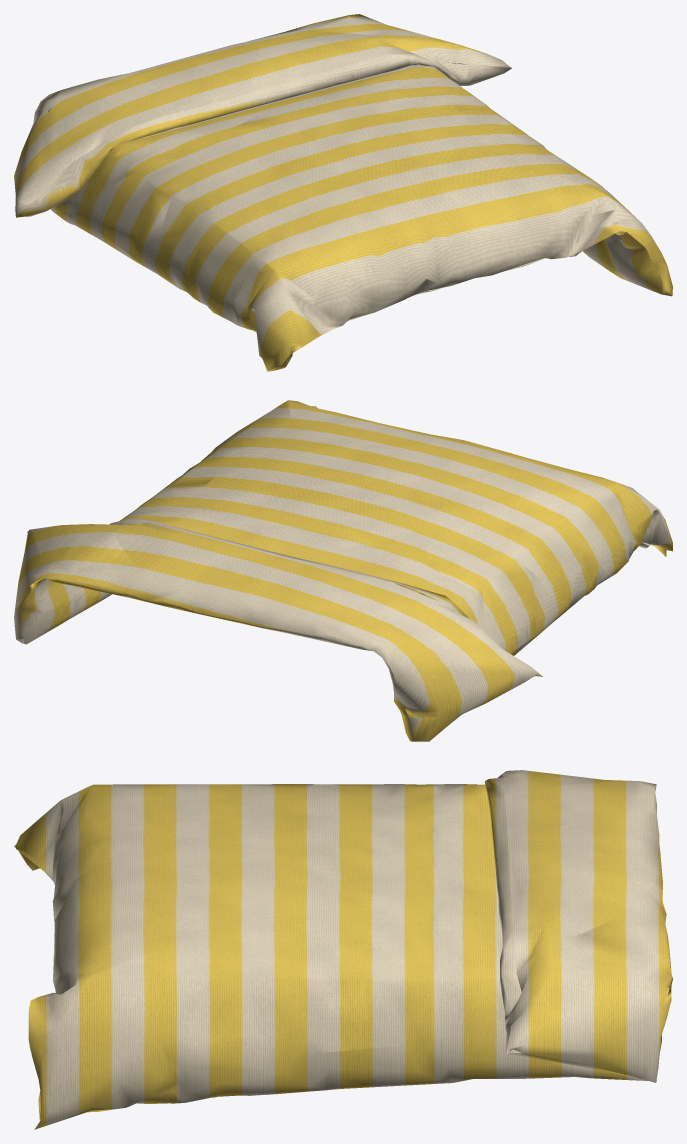
Rendered from Blanket.FBX.
3 views of the same model, one above another, from view 1: azimuth 30°, elevation 25°; view 2: azimuth 150°, elevation 25°; view 3: azimuth 270°, elevation 25° (orthographic). The views are drawn at different scales.
Parts seen in each view (by area): view 1: blanket; view 2: blanket; view 3: blanket.
Boxes of the visible parts, <box> form: blanket: <box>14,14,672,371</box>; blanket: <box>14,400,672,741</box>; blanket: <box>14,770,672,1129</box>.
Size of the model in its own units: 175 by 41.87 by 163.
1 material, 1 textured.
